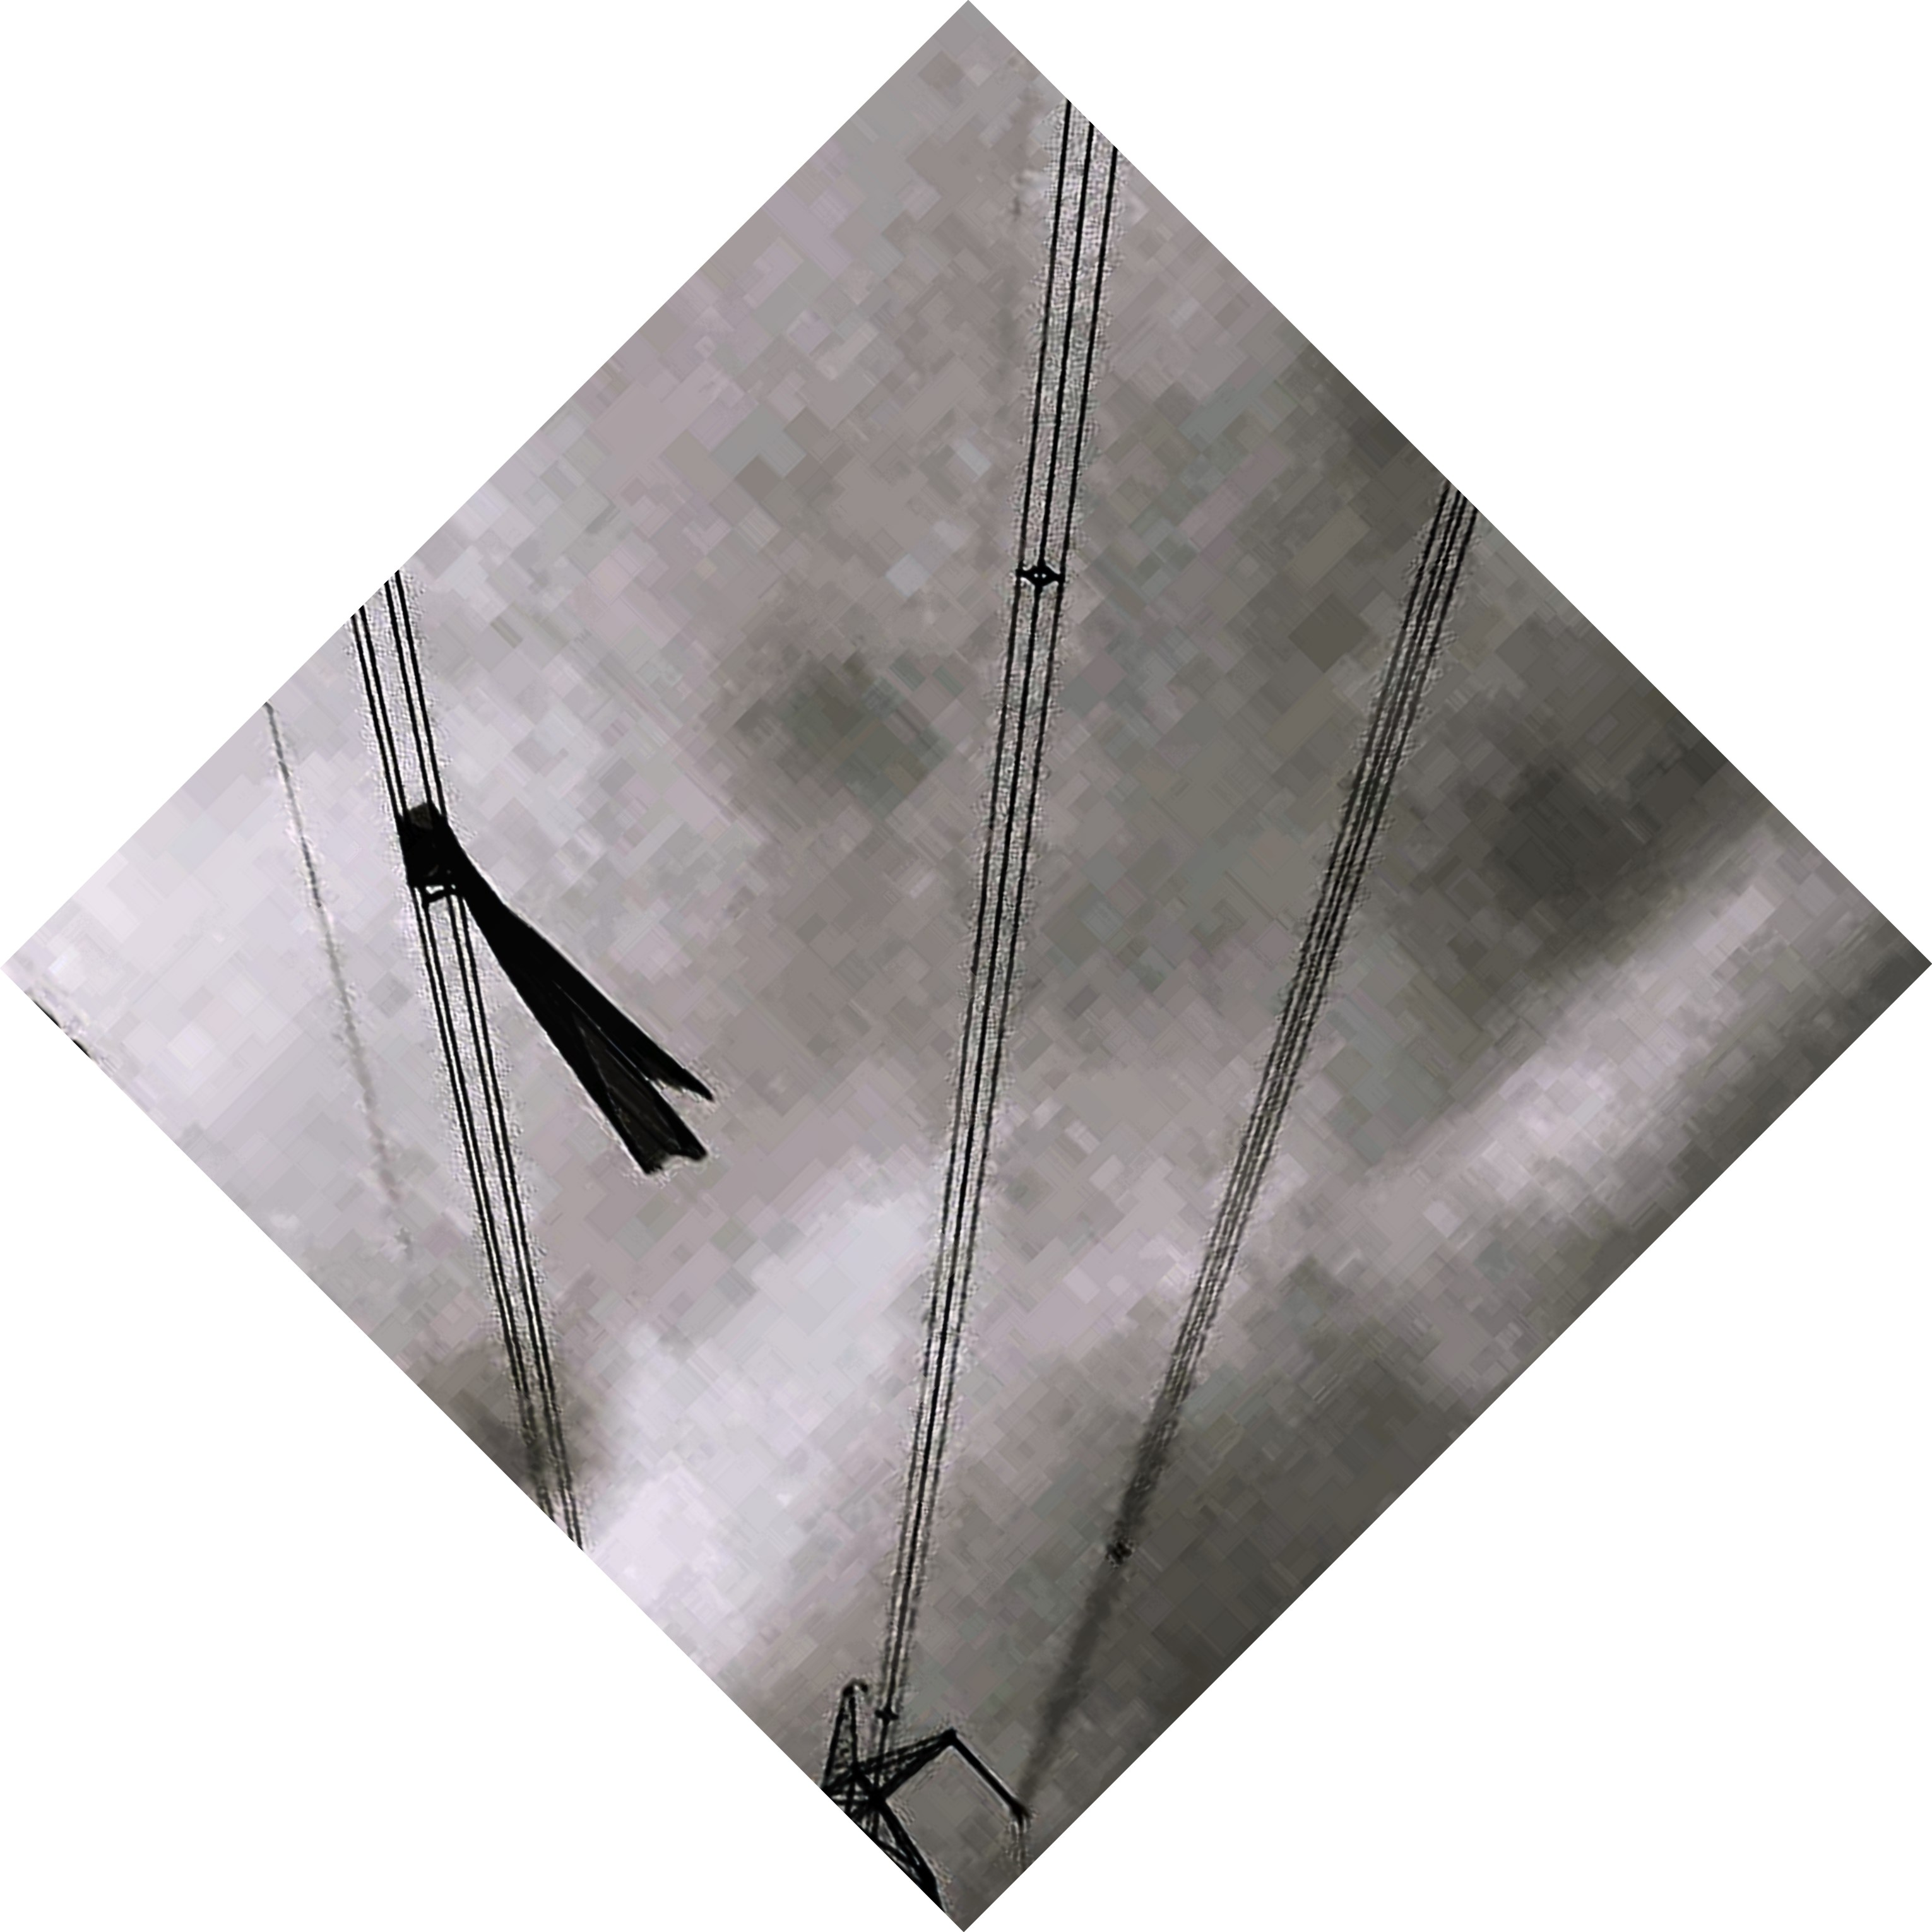wire foreign body: (368, 796, 747, 1180)
